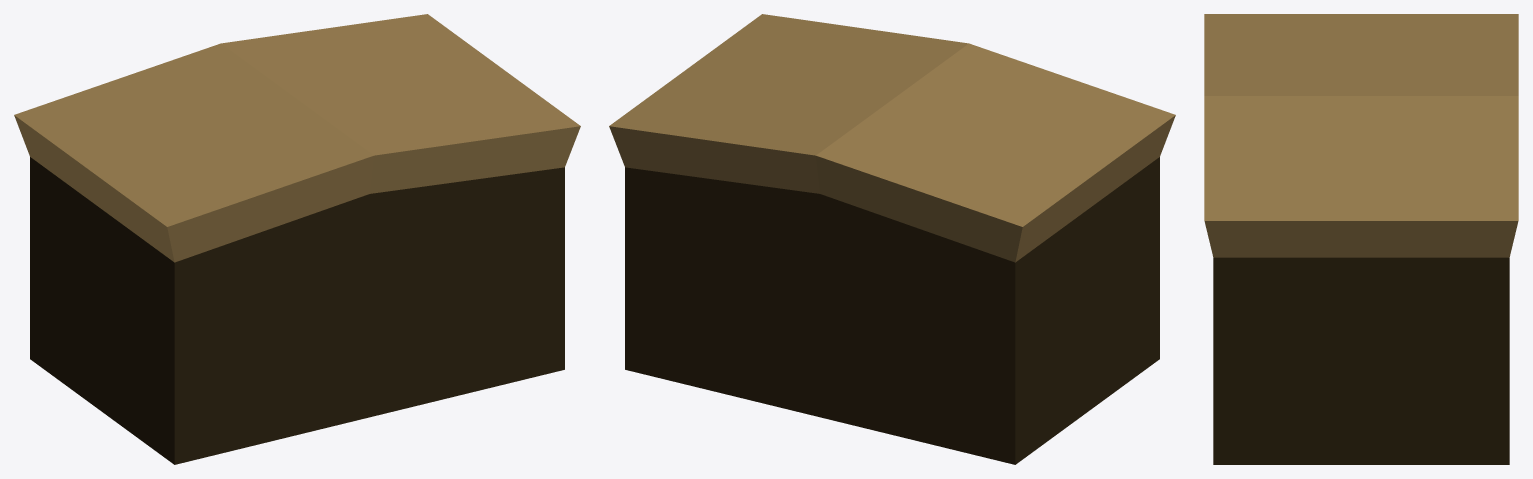
The model's file is Roast.fbx.
The picture shows the model from 3 angles, left to right: view 1: azimuth 30°, elevation 25°; view 2: azimuth 150°, elevation 25°; view 3: azimuth 270°, elevation 25°; orthographic projection. The views are drawn at different scales.
Visible parts, largest first — view 1: polySurface34; view 2: polySurface34; view 3: polySurface34.
Boxes of the visible parts, left/top/right/bottom form: polySurface34: left=14, top=14, right=580, bottom=464; polySurface34: left=609, top=14, right=1175, bottom=464; polySurface34: left=1204, top=14, right=1518, bottom=464.
Size of the model in its own units: 85.41 by 52.26 by 54.8.
